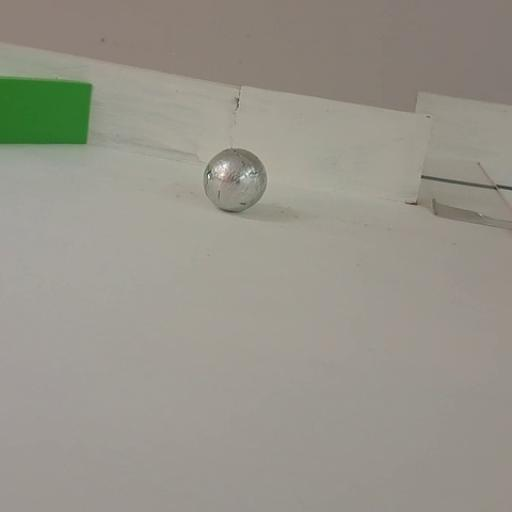alive: (200, 145, 271, 215)
